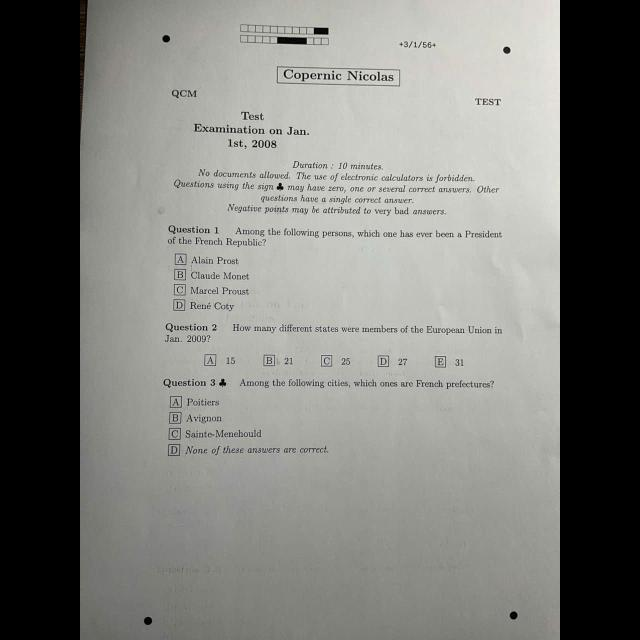Markers: (510, 610, 518, 620), (162, 34, 170, 42), (503, 46, 511, 54), (144, 617, 152, 625)
